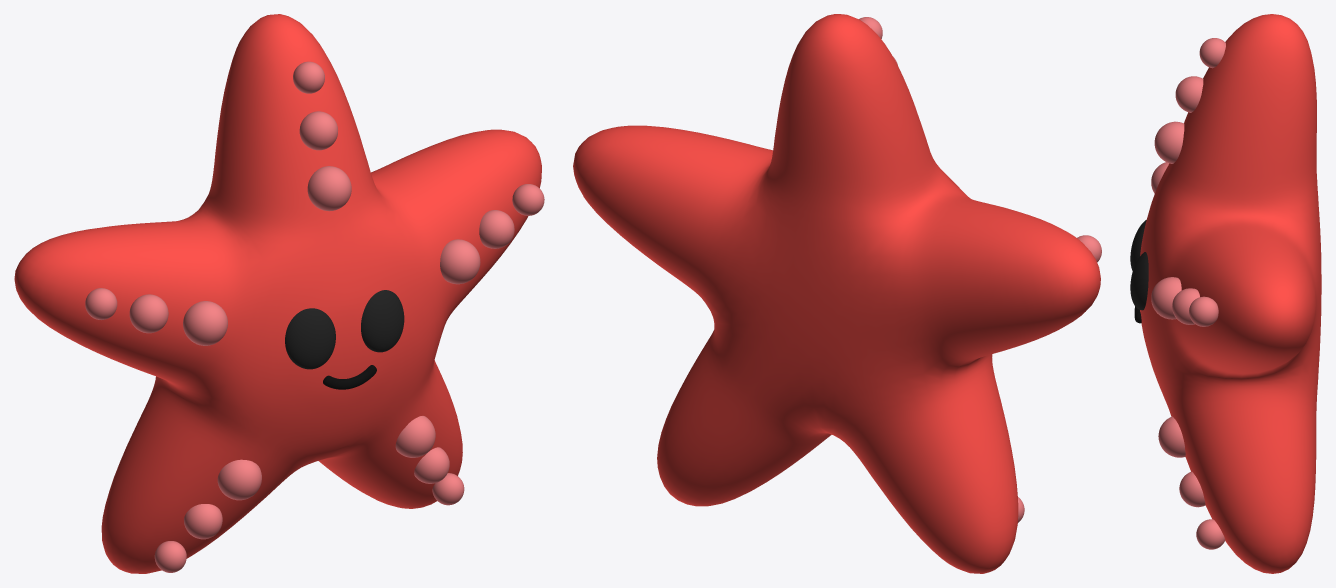
Rendered from Starfish.glb.
3 views of the same model, side by side, from view 1: azimuth 30°, elevation 25°; view 2: azimuth 150°, elevation 25°; view 3: azimuth 270°, elevation 25° (orthographic). The views are drawn at different scales.
Parts seen in each view (by area): view 1: Star_Fish, Tube_Feet, Eyes; view 2: Star_Fish, Tube_Feet; view 3: Star_Fish, Tube_Feet, Eyes.
Boxes of the visible parts, x1,y1,x2,y2 form: Star_Fish: [14, 14, 541, 573]; Tube_Feet: [85, 61, 544, 572]; Eyes: [285, 290, 404, 369]; Star_Fish: [573, 14, 1100, 573]; Tube_Feet: [859, 17, 1101, 522]; Star_Fish: [1140, 14, 1321, 573]; Tube_Feet: [1151, 38, 1225, 549]; Eyes: [1130, 220, 1148, 310].
Size of the model in its own units: 0.729 by 0.6982 by 0.2471.
